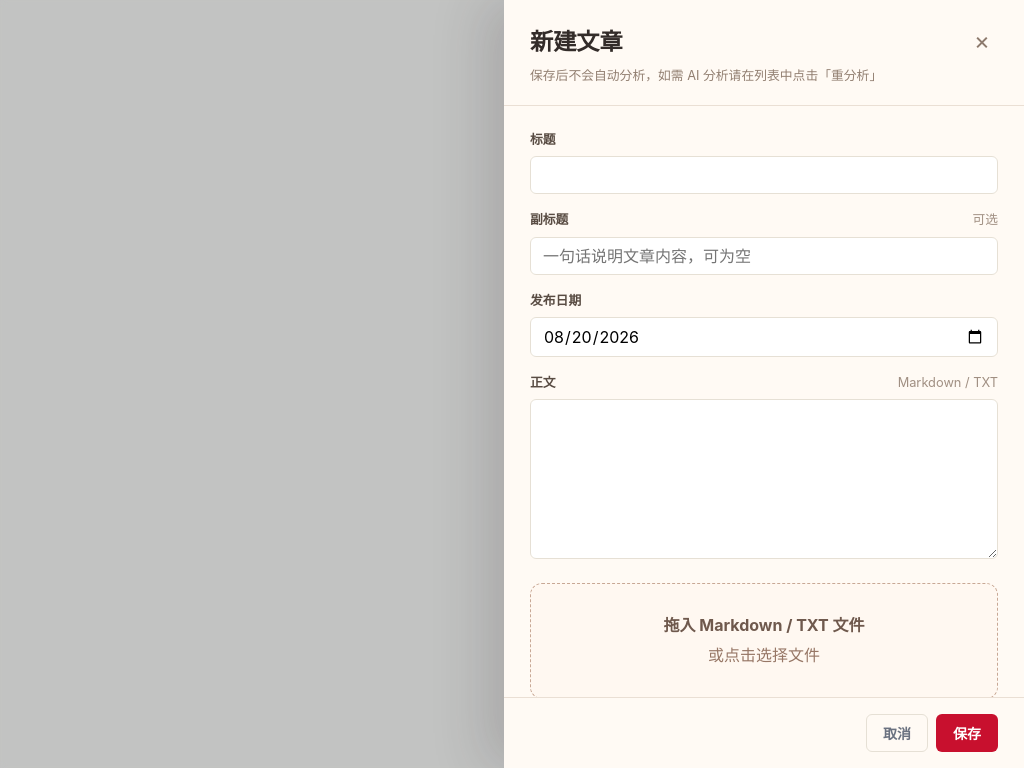
Scenario: ArticleEditorDrawer › shows inline validation and does not save incomplete data
Click the button "保存" at [967, 733], box x1=936 y1=714 x2=998 y2=752
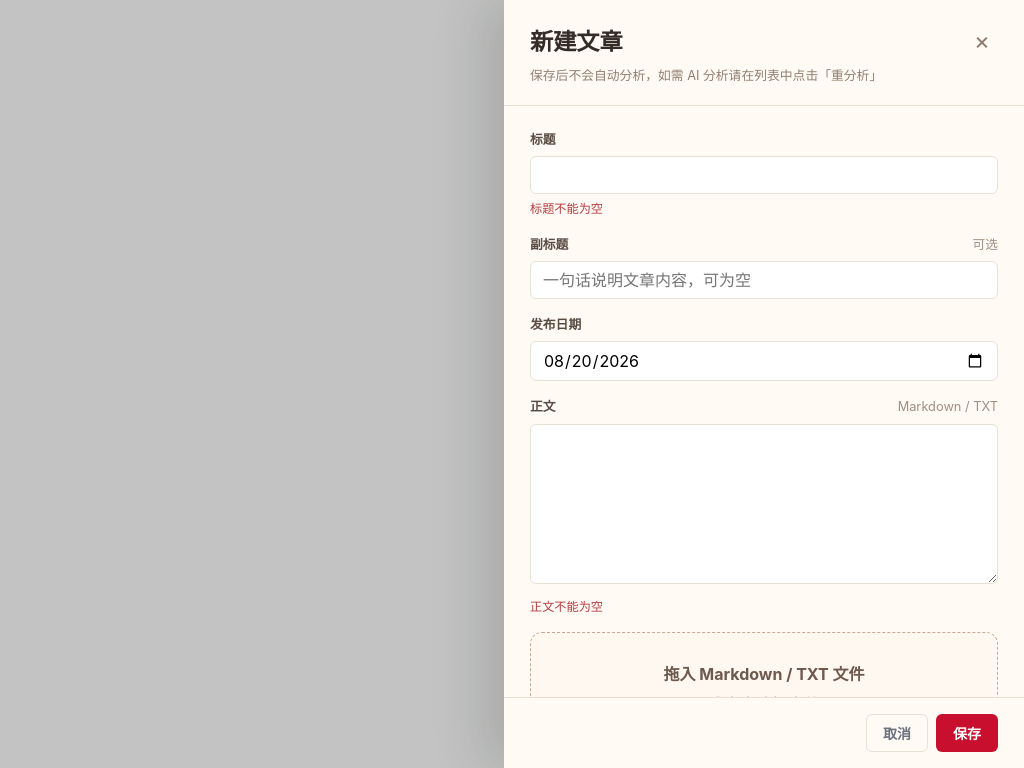
expect the text "标题不能为空" is shown: met, box x1=530 y1=201 x2=603 y2=216
